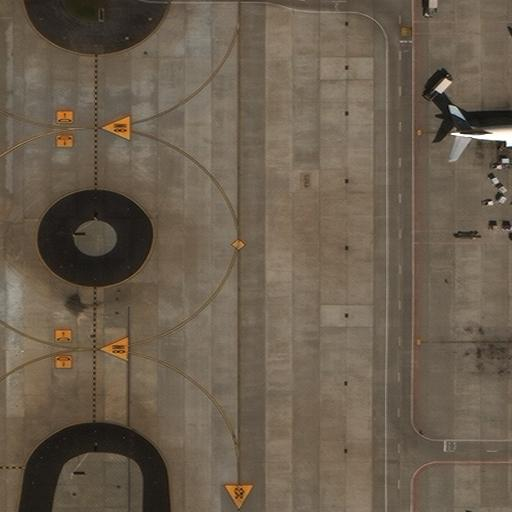Large Civil Transport: (449, 66, 512, 198)
